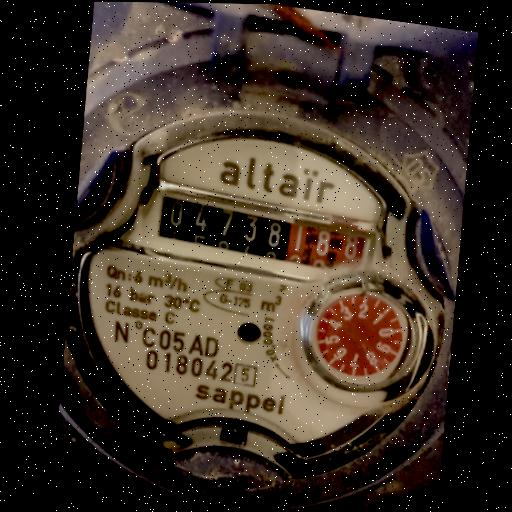0: (161, 195, 191, 242)
1: (284, 222, 311, 265)
3: (237, 213, 264, 256)
4: (188, 202, 216, 246)
7: (211, 207, 241, 251)
8: (333, 233, 366, 272), (308, 227, 336, 270), (261, 218, 287, 260)
border_water_meter_number: (115, 182, 381, 291)
